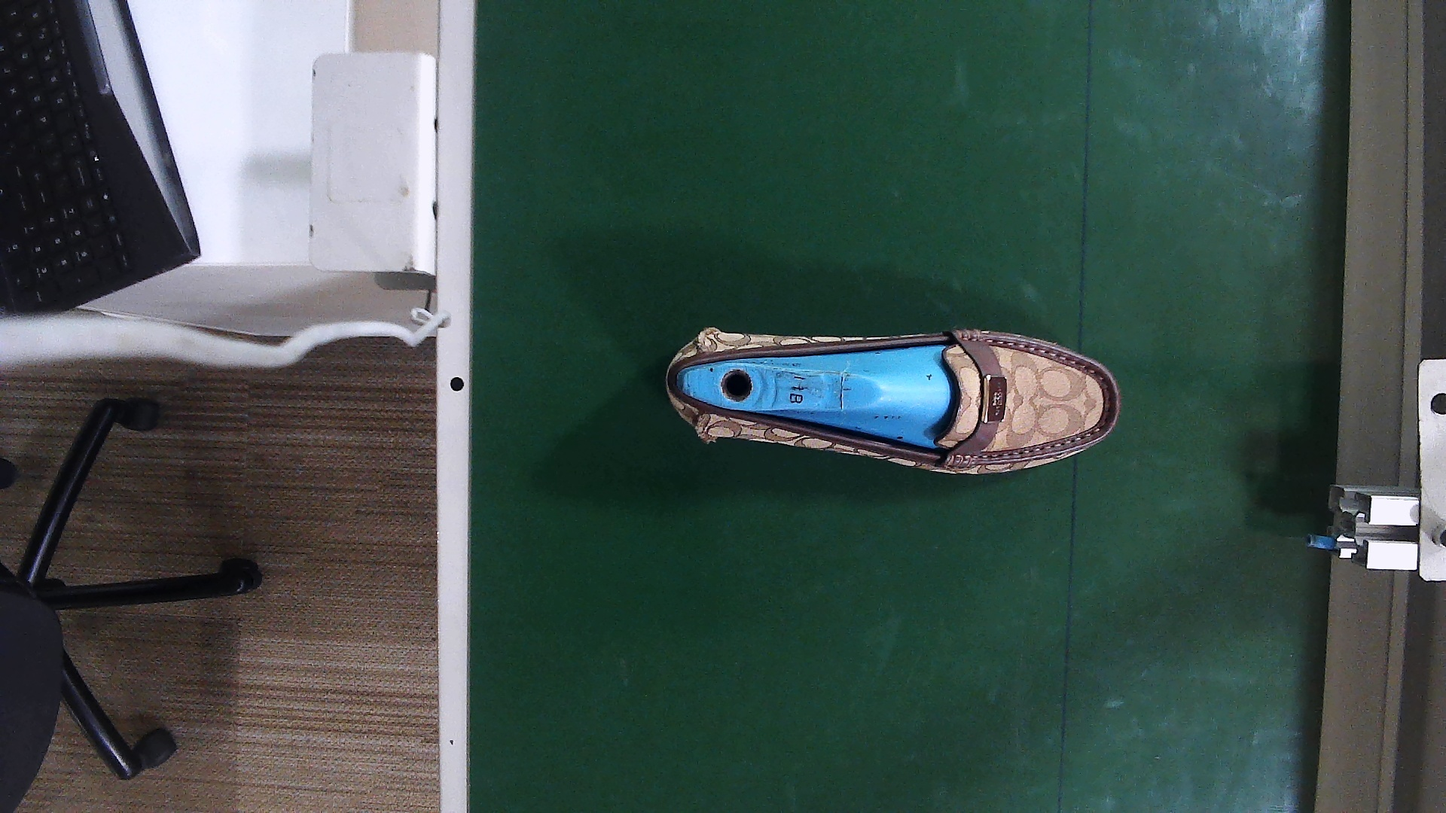shoe: (667, 332, 1116, 474)
